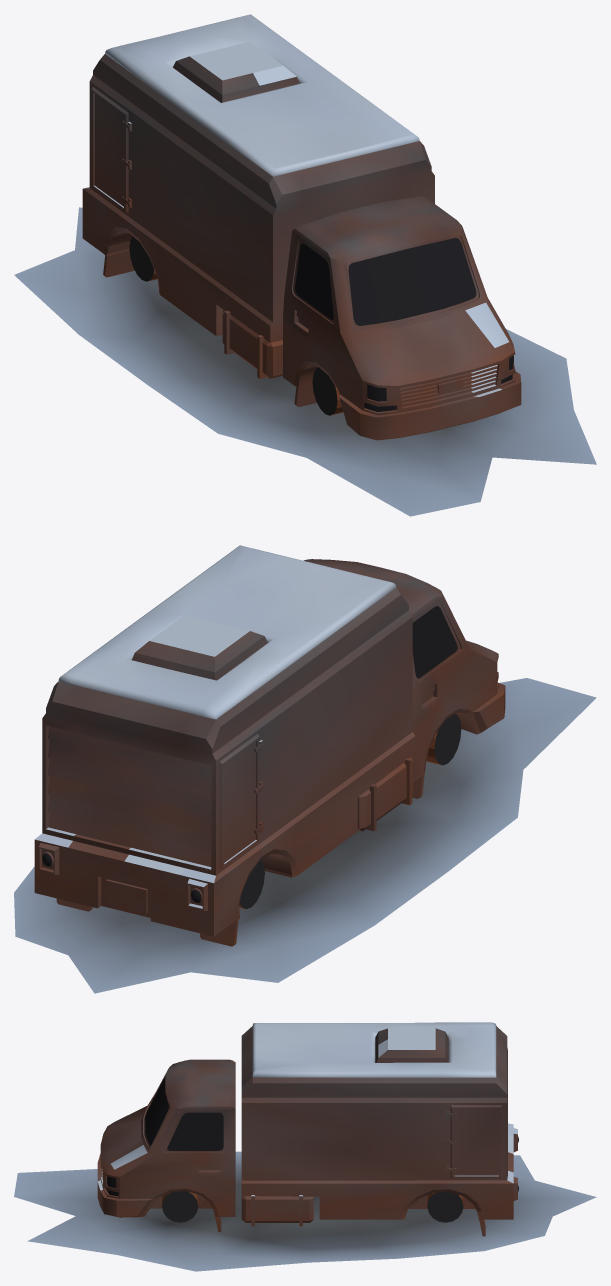
Rendered from military_truck_burnt.glb.
3 views of the same model, one above another, from view 1: azimuth 30°, elevation 25°; view 2: azimuth 150°, elevation 25°; view 3: azimuth 270°, elevation 25° (orthographic). The views are drawn at different scales.
Parts seen in each view (by area): view 1: Body; view 2: Body; view 3: Body.
Boxes of the visible parts, x1=… form: Body: x1=14, y1=14, x2=596, y2=516; Body: x1=14, y1=545, x2=596, y2=993; Body: x1=14, y1=1022, x2=596, y2=1271.
Size of the model in its own units: 4.88 by 3.19 by 9.96.
